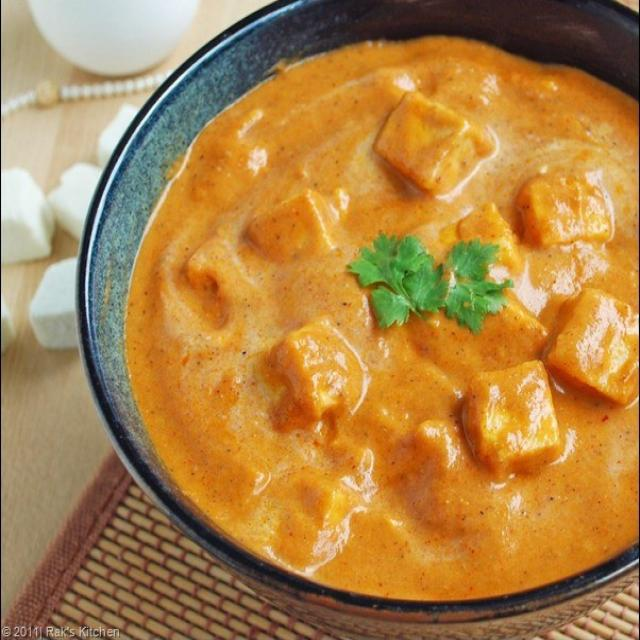ShahiPaneer: (133, 33, 638, 608)
